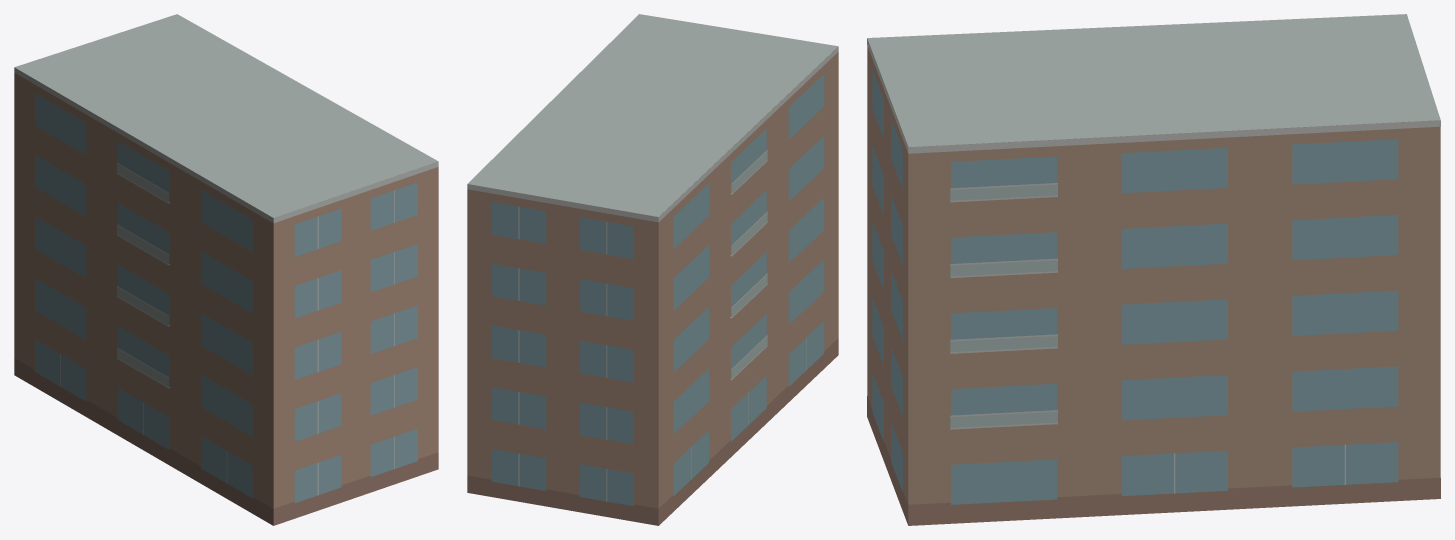
The model's file is survey-upis-33007406.glb.
3 views of the same model, side by side, from view 1: azimuth 30°, elevation 25°; view 2: azimuth 150°, elevation 25°; view 3: azimuth 270°, elevation 25° (orthographic). The views are drawn at different scales.
Parts seen in each view (by area): view 1: survey-upis-33007406.tmp; view 2: survey-upis-33007406.tmp; view 3: survey-upis-33007406.tmp.
Boxes of the visible parts, left/top/right/bottom form: survey-upis-33007406.tmp: left=14, top=14, right=438, bottom=525; survey-upis-33007406.tmp: left=467, top=14, right=838, bottom=525; survey-upis-33007406.tmp: left=867, top=14, right=1440, bottom=525.
Size of the model in its own units: 10.68 by 14.15 by 19.44.
